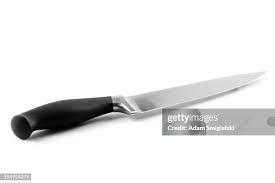Knife: (10, 69, 267, 139)
